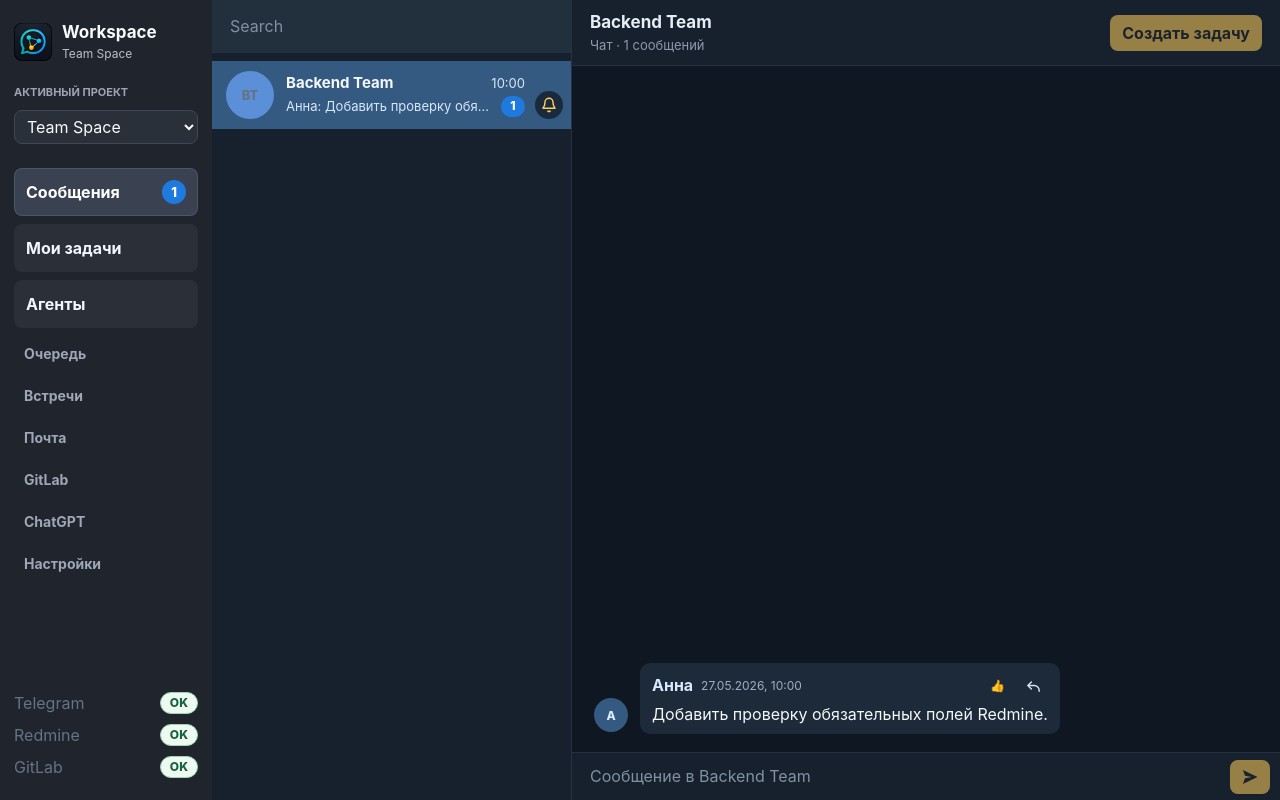
Scenario: App › deletes an opened Redmine issue from My Tasks after confirmation
The image size is (1280, 800).
Click the button "Мои задачи" at (106, 248), box [14,224,198,272]
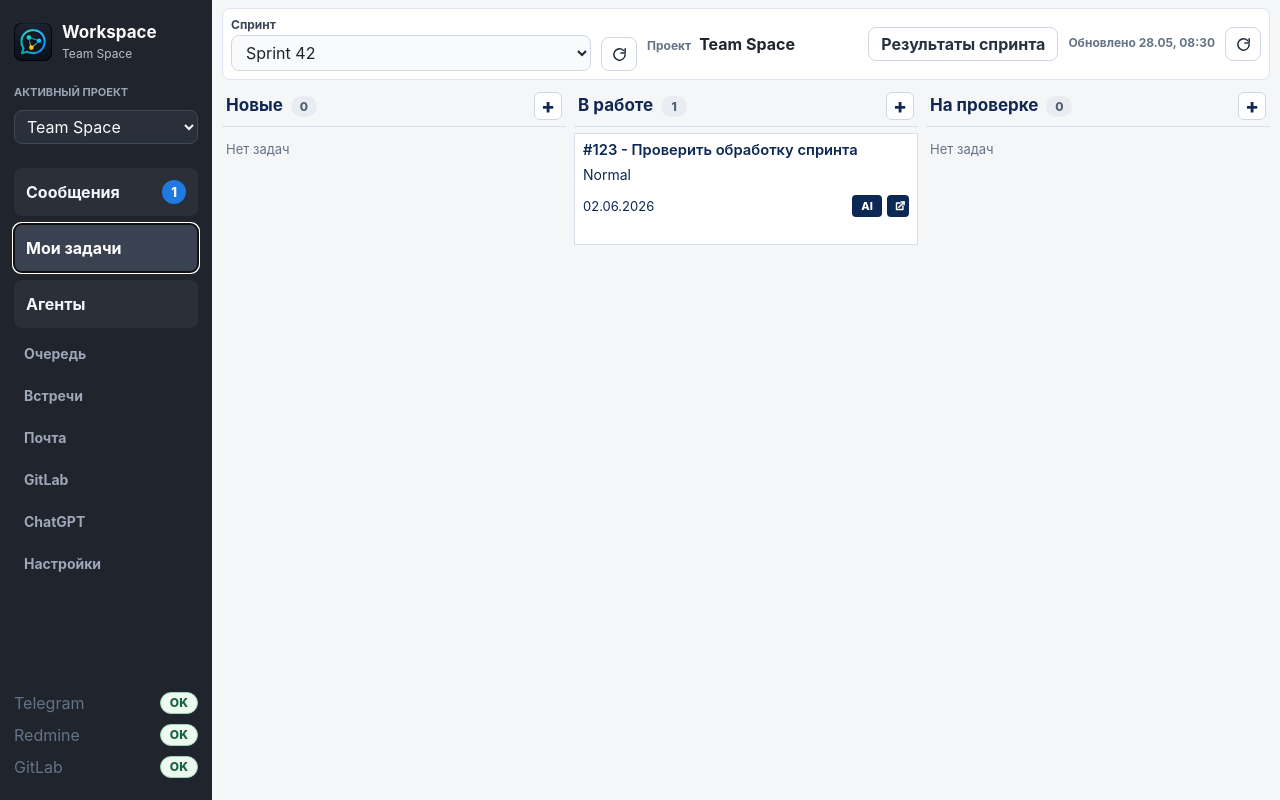
Now the heading "#123 - Проверить обработку спринта" is shown, box [583,142,901,160]
Click the button with aria-label "Открыть карточку задачи #123 в приложении" at (745, 150), box [574,133,918,245]
(page scrolled)
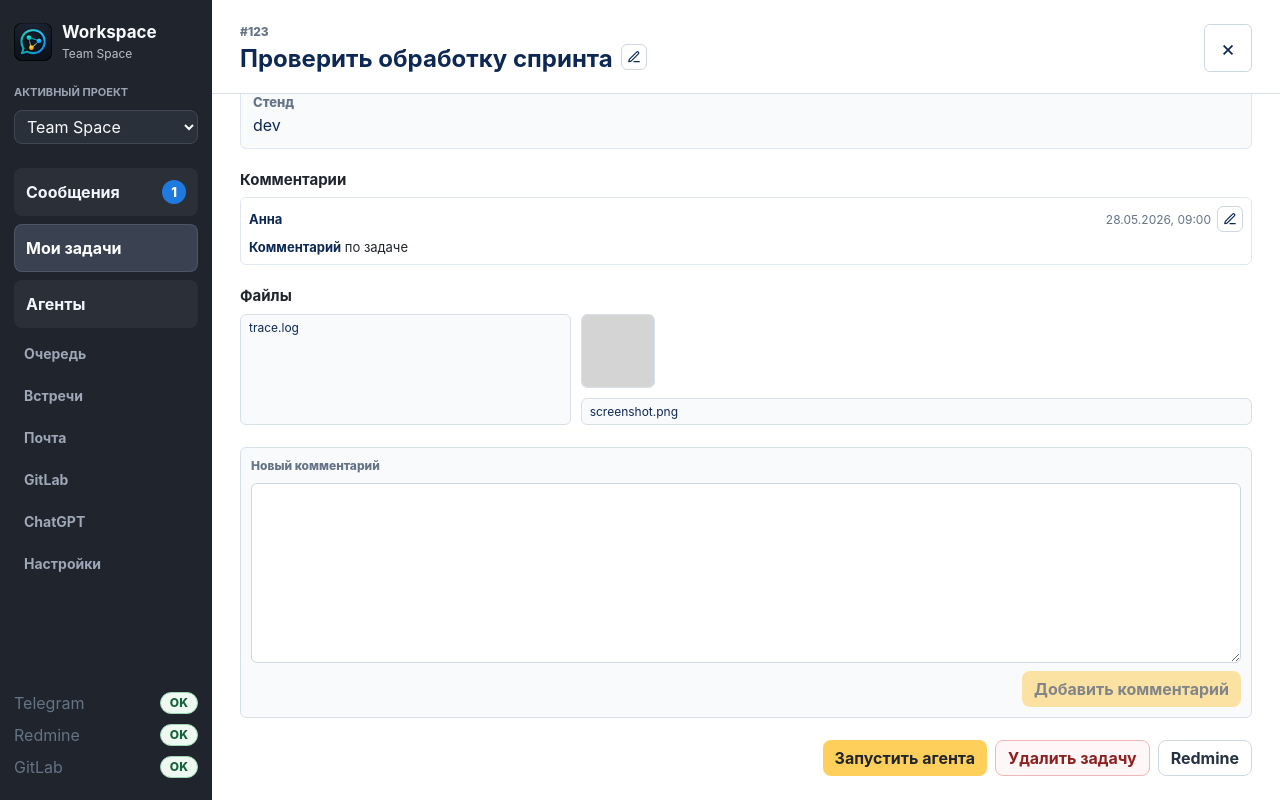
Now the element named "Задача #123" is shown
Click the button "Удалить задачу" at (1072, 758), box [995,740,1150,776]
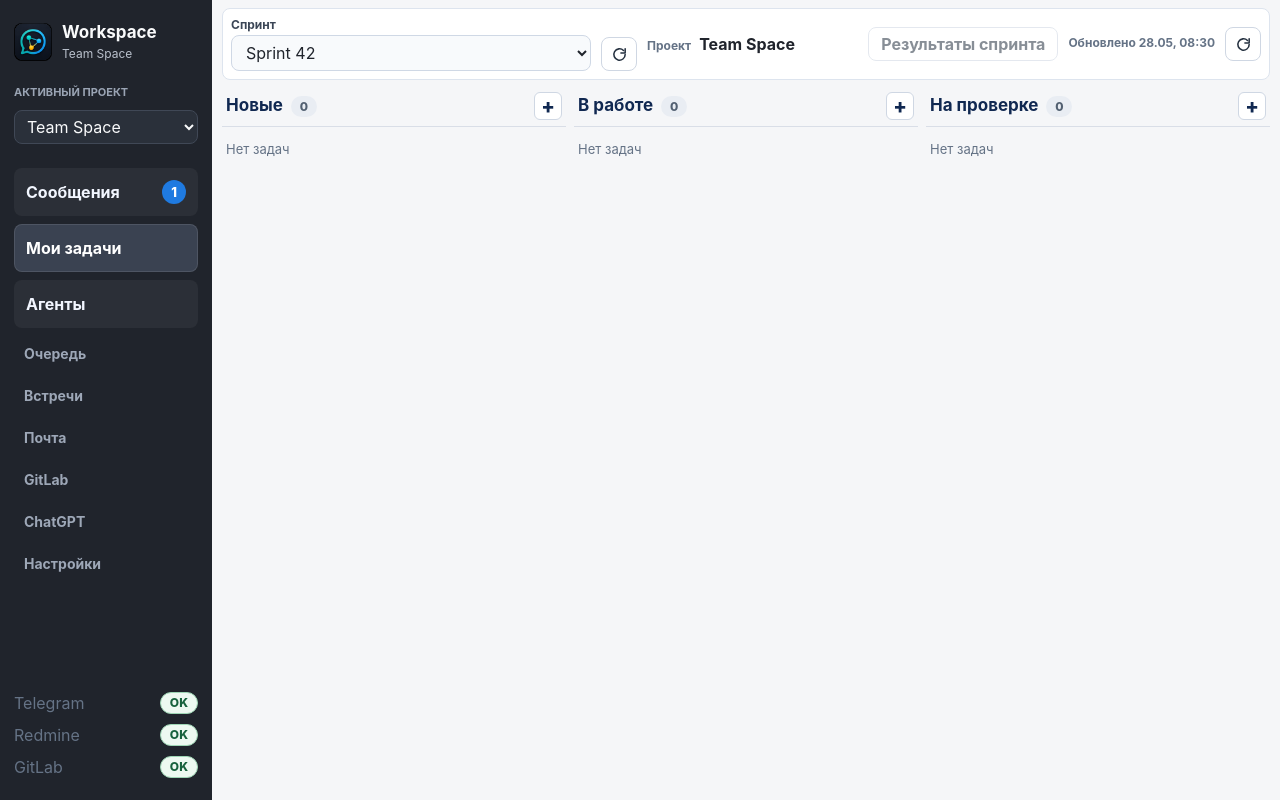
Now the button "#123 - Проверить обработку спринта" is gone
